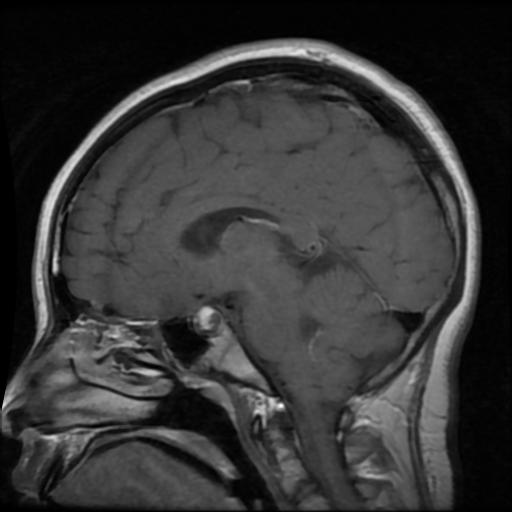Pituirity_tumour: (191, 306, 221, 335)
